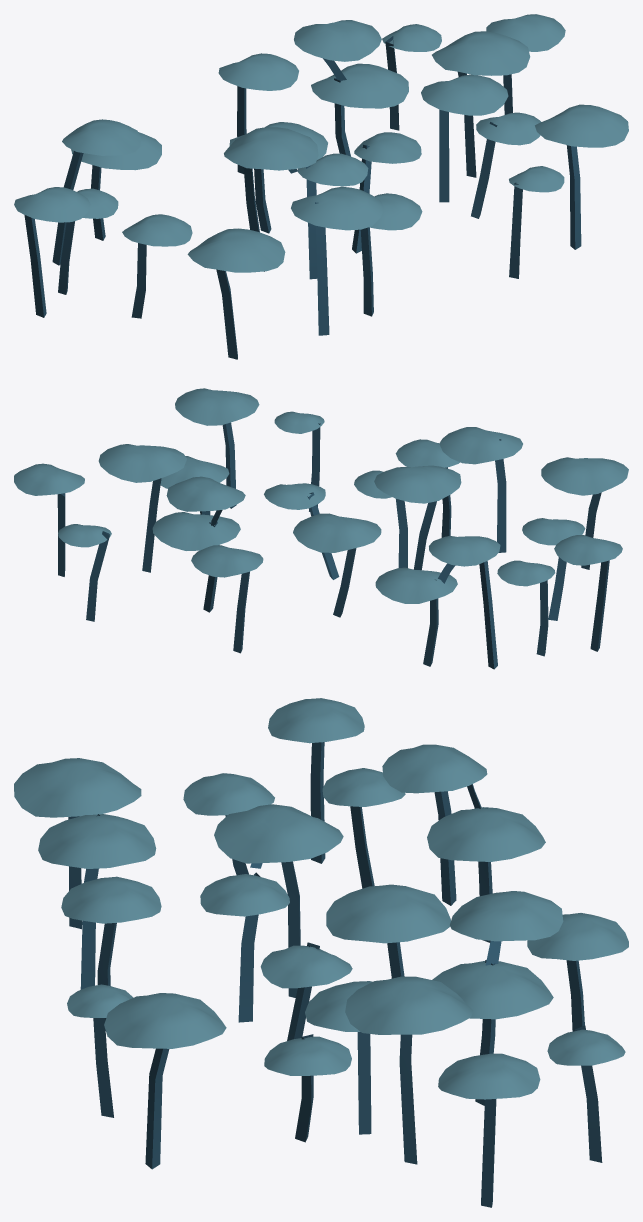
File: coral_mushroom_A_medium.fbx
The picture shows the model from 3 angles, top to bottom: view 1: azimuth 30°, elevation 25°; view 2: azimuth 150°, elevation 25°; view 3: azimuth 270°, elevation 25°; orthographic projection. The views are drawn at different scales.
Parts seen in each view (by area): view 1: coral_mushroom_A_medium_mushrooms, coral_mushroom_A_medium_twigs; view 2: coral_mushroom_A_medium_mushrooms, coral_mushroom_A_medium_twigs; view 3: coral_mushroom_A_medium_mushrooms, coral_mushroom_A_medium_twigs.
Boxes of the visible parts, bbox=[...] form: coral_mushroom_A_medium_mushrooms: bbox=[14, 14, 628, 272]; coral_mushroom_A_medium_twigs: bbox=[24, 36, 581, 359]; coral_mushroom_A_medium_mushrooms: bbox=[14, 388, 628, 603]; coral_mushroom_A_medium_twigs: bbox=[57, 422, 609, 669]; coral_mushroom_A_medium_mushrooms: bbox=[14, 698, 628, 1099]; coral_mushroom_A_medium_twigs: bbox=[68, 742, 602, 1207].
Bounding box in the file's own units: 377 × 89.21 × 250.
